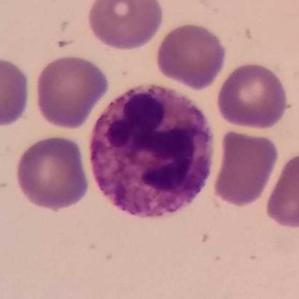Neutrophil: (82, 76, 221, 230)
RBC: (12, 132, 92, 212), (32, 53, 111, 130), (210, 126, 280, 208), (214, 59, 292, 131), (154, 20, 228, 91), (85, 0, 166, 52), (262, 147, 299, 231), (0, 55, 33, 130)
